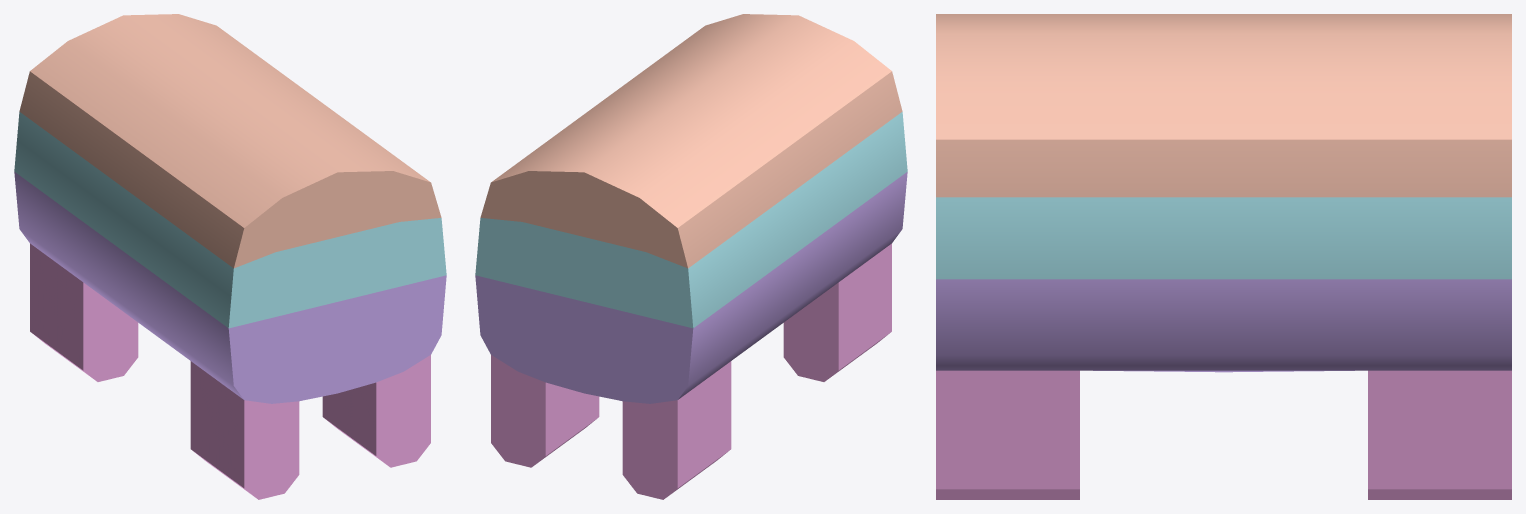
The model's file is Body.obj.
The picture shows the model from 3 angles, left to right: view 1: azimuth 30°, elevation 25°; view 2: azimuth 150°, elevation 25°; view 3: azimuth 270°, elevation 25°; orthographic projection. The views are drawn at different scales.
Visible parts, largest first — view 1: Body; view 2: Body; view 3: Body.
Part boxes in pixels (left/top/right/bottom): Body: left=14, top=14, right=446, bottom=499; Body: left=475, top=14, right=907, bottom=499; Body: left=936, top=14, right=1511, bottom=499.
Size of the model in its own units: 0.3522 by 0.4761 by 0.6.
Materials: 1 (1 with a texture image).
